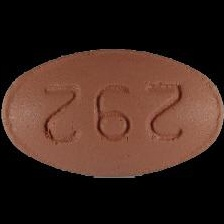68788-6328: (0, 0, 224, 224)
